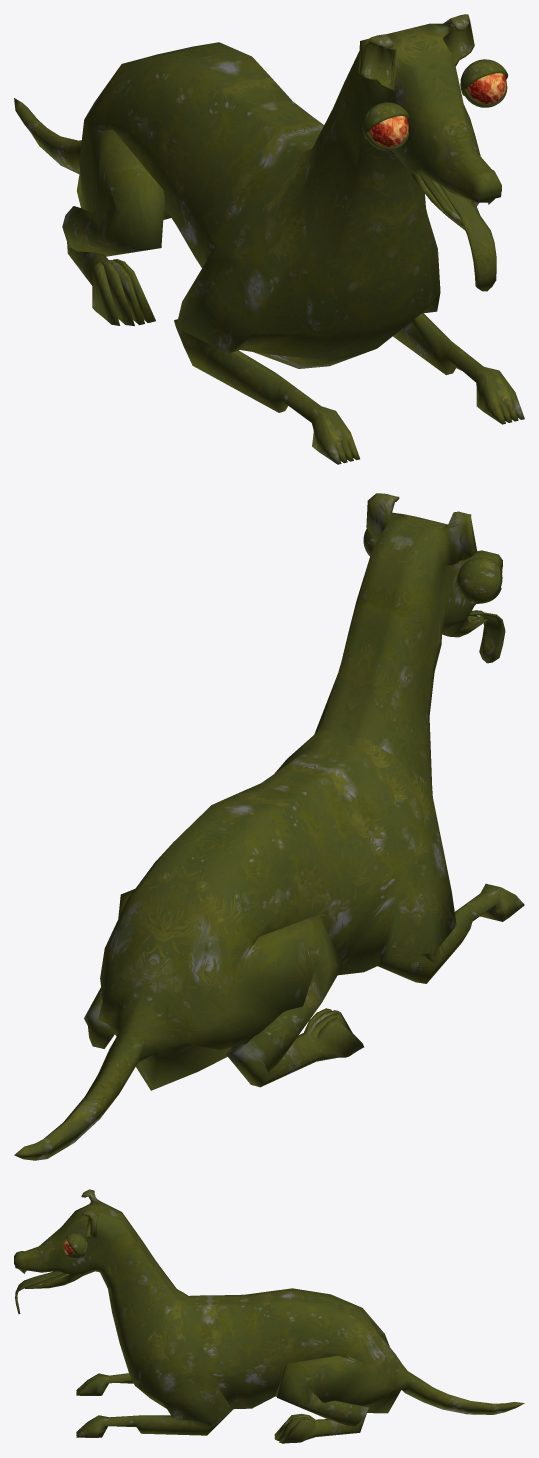
The model's file is Dog_laying1.fbx.
3 renders of one model, top to bottom at view 1: azimuth 30°, elevation 25°; view 2: azimuth 150°, elevation 25°; view 3: azimuth 270°, elevation 25°, orthographic. The views are drawn at different scales.
Parts seen in each view (by area): view 1: Dog, Tongue.001, Eye.R, Eye.L, EyeLidUpper.L, EyeLidUpper.R; view 2: Dog, EyeLidUpper.R, Tongue.001; view 3: Dog, Tongue.001, EyeLidUpper.L.
Part boxes in pixels (x1,y1,x2,y2): Dog: (14,14,524,464); Tongue.001: (439,184,496,291); Eye.R: (369,116,408,146); Eye.L: (467,73,506,103); EyeLidUpper.L: (460,59,508,96); EyeLidUpper.R: (362,102,409,139); Dog: (14,493,524,1160); EyeLidUpper.R: (457,557,502,603); Tongue.001: (469,610,505,663); Dog: (14,1189,524,1443); Tongue.001: (15,1271,64,1314); EyeLidUpper.L: (66,1233,87,1257).
Size of the model in its own units: 0.1664 by 0.2599 by 0.5662.
